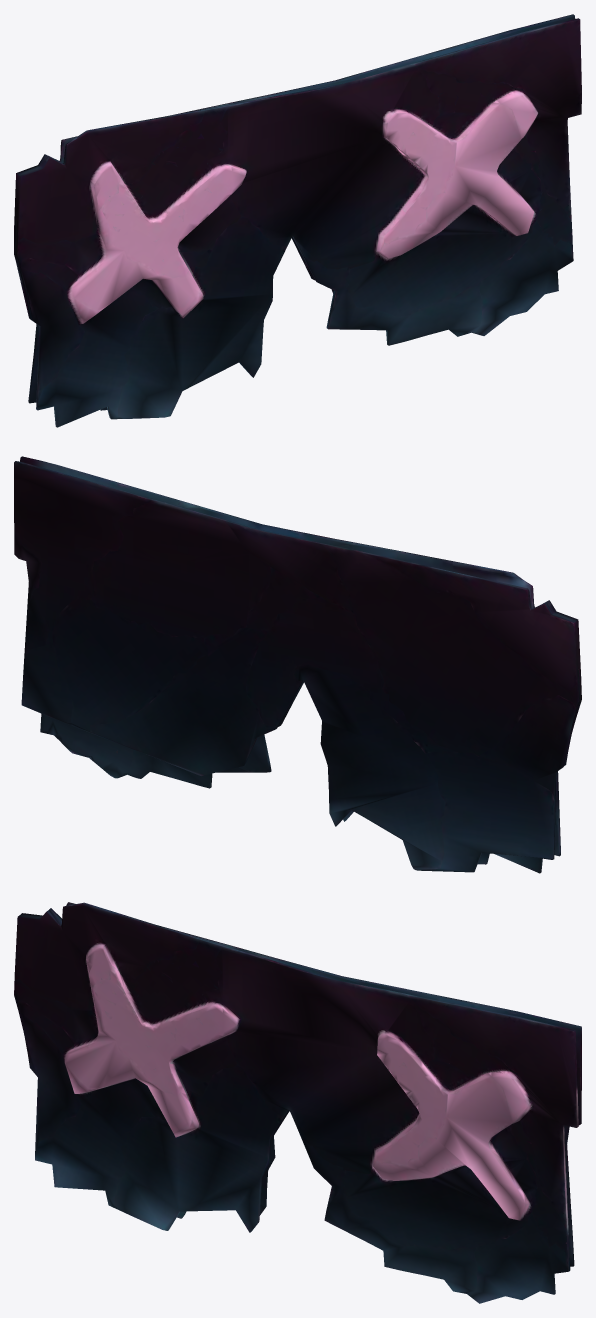
3 views of the same model, one above another, from view 1: azimuth 30°, elevation 25°; view 2: azimuth 150°, elevation 25°; view 3: azimuth 330°, elevation 25° (orthographic).
Visible parts, largest first — view 1: node_0; view 2: node_0; view 3: node_0.
Part boxes in pixels (box(x1,y1,x2,y2)): node_0: box(14, 14, 581, 427); node_0: box(14, 456, 581, 873); node_0: box(14, 902, 581, 1303).
Bounding box in the file's own units: 1.08 × 0.5611 × 0.0648.
Materials: 1 (1 with a texture image).
